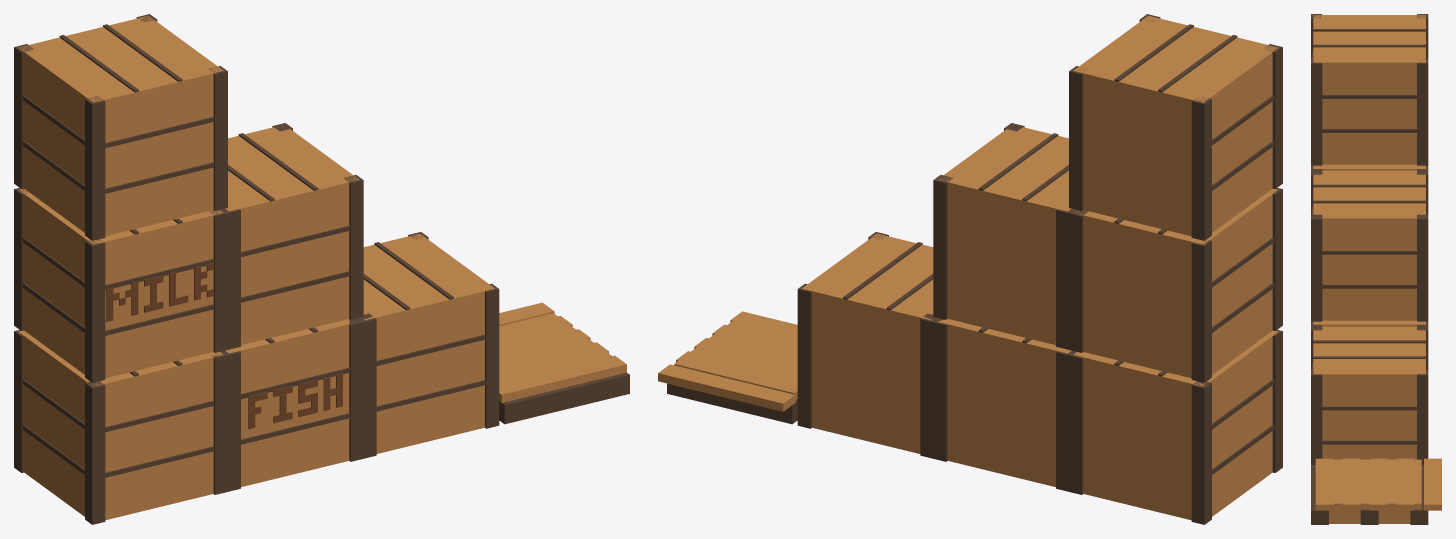
The model's file is CatCafe_Alley_CrateStack.glb.
The picture shows the model from 3 angles, left to right: view 1: azimuth 30°, elevation 25°; view 2: azimuth 150°, elevation 25°; view 3: azimuth 270°, elevation 25°; orthographic projection. The views are drawn at different scales.
Parts seen in each view (by area): view 1: CatCafe_Alley_CrateStack; view 2: CatCafe_Alley_CrateStack; view 3: CatCafe_Alley_CrateStack.
Boxes of the visible parts, box(x1,y1,x2,y2) form: CatCafe_Alley_CrateStack: box(14, 14, 629, 524); CatCafe_Alley_CrateStack: box(658, 14, 1282, 524); CatCafe_Alley_CrateStack: box(1311, 14, 1441, 524).
Bounding box in the file's own units: 10.3 × 7.73 × 2.9.
Materials: 1 (1 with a texture image).
